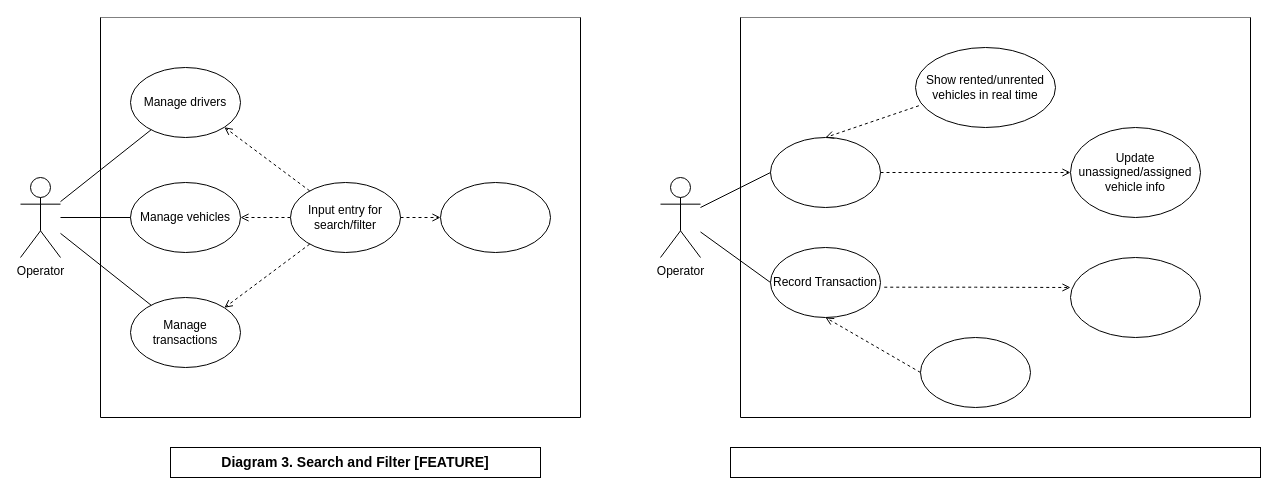
Some shapes in this 1278 by 495 pixel diagram are drawn without their labels. Here are the shapes that lost their labels. From the top down, the box of each, then its label:
(770, 136, 880, 208): Assign Driver
(440, 182, 550, 252): Show search/filter results
(1070, 256, 1200, 338): Update driver's rent information
(920, 336, 1030, 408): Show drivers renting in real time
(730, 446, 1260, 478): Diagram 4. Realtime Update for Renting/Recording Actions [FEATURE]
